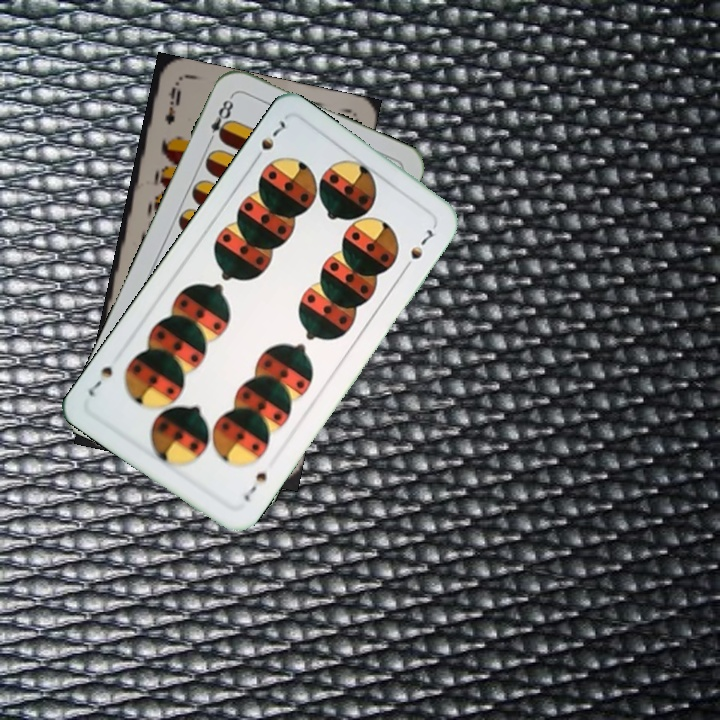E8: (204, 92, 236, 147)
E9: (161, 83, 184, 127)
S7: (248, 116, 288, 166), (240, 468, 270, 505)
